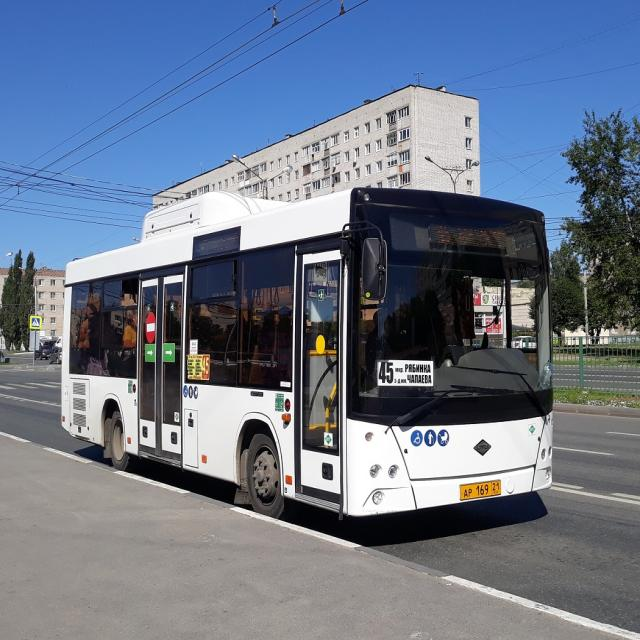number-of-bus: (379, 360, 396, 386)
